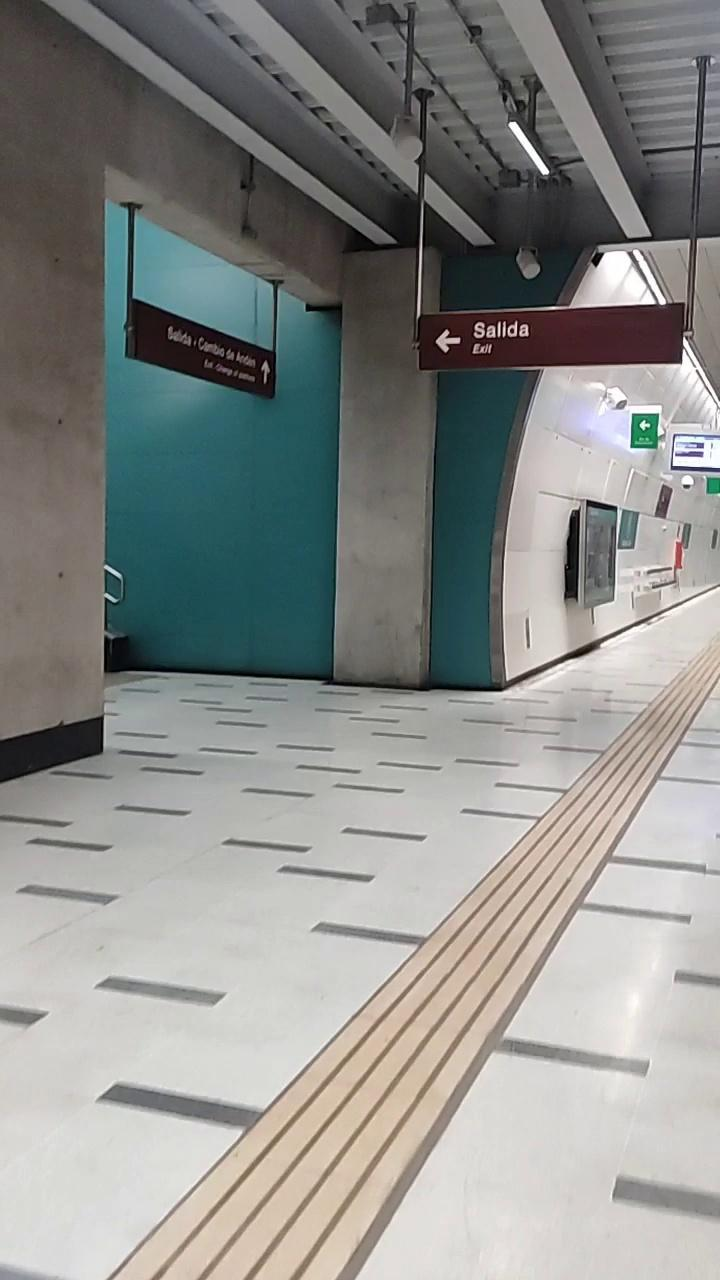left arrow: (433, 326, 466, 358)
up arrow: (259, 358, 273, 388)
